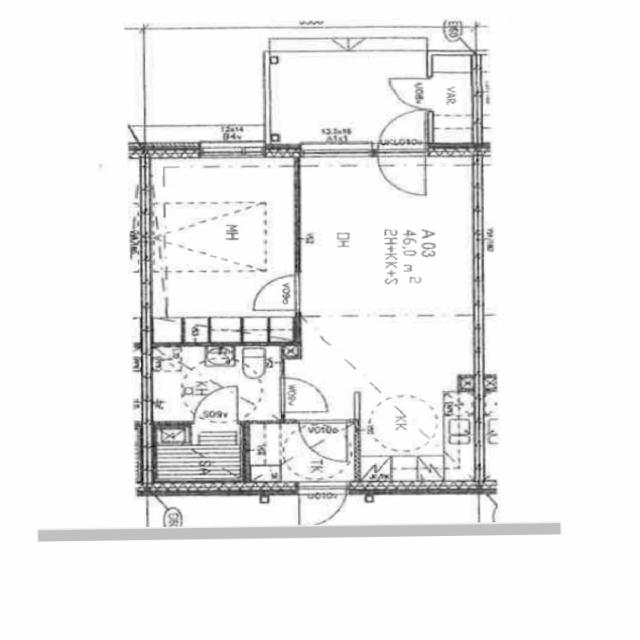door: (298, 482, 346, 532), (378, 143, 425, 194), (378, 106, 425, 156), (299, 420, 347, 462), (194, 384, 237, 426), (252, 275, 299, 310), (280, 378, 327, 412), (388, 78, 432, 109)
